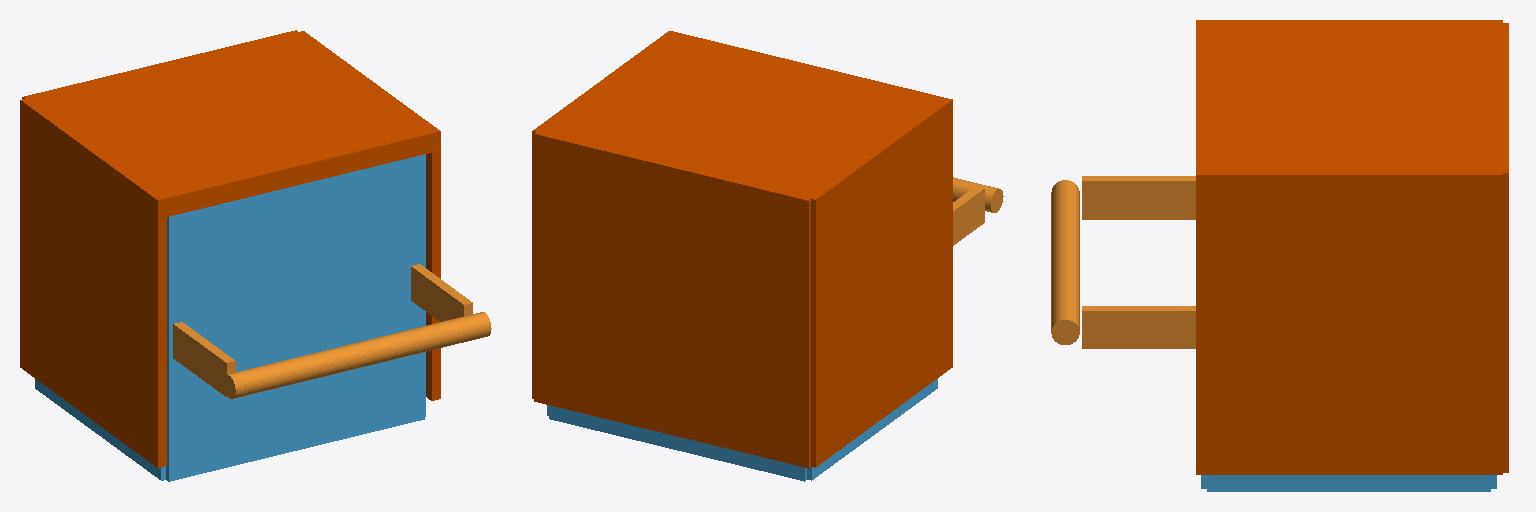
robot.urdf — bowl.urdf:
<?xml version="0.0" ?>
<robot name="bowl.urdf">

  <material name="yellow">
    <color rgba="1 1 0.4 1"/>
  </material>
  <material name="red">
    <color rgba="1 0 0 1"/>
  </material>
  <material name="blue">
    <color rgba=".17 .20 .38 1"/>
  </material>
  <material name="teal">
    <color rgba="0 .5 .5 1"/>
  </material>
  <material name="orange">
    <color rgba=".93 .6 .23 1"/>
  </material>

  <link name="world"/>

  <link name="base">
    <contact>
      <rolling_friction value="10.0"/>
      <lateral_friction value="10.0"/>
      <spinning_friction value="10.0"/>
    </contact>
    <inertial>
      <origin rpy="0 0 0" xyz="0.0 0.0 0.0"/>
       <mass value="0.1"/>
       <inertia ixx="1" ixy="0" ixz="0" iyy="1" iyz="0" izz="1"/>
    </inertial>
    <visual>
      <origin rpy="0 0 0" xyz="0 0 -0.2"/>
      <geometry>
        <box size="1.4 1.2 .1"/>
      </geometry>
    </visual>
    <visual>
      <!-- right -->
      <origin rpy="0 0 0" xyz="0 -.6 0"/>
      <geometry>
        <box size="1.4 .05 1.4"/>
      </geometry>
    </visual>
    <visual>
      <!-- left -->
      <origin rpy="0 0 0" xyz="0 .6 0"/>
      <geometry>
        <box size="1.4 .05 1.4"/>
      </geometry>
    </visual>
    <visual>
      <!-- front -->
      <origin rpy="0 0 0" xyz=".7 0 0"/>
      <geometry>
        <box size=".05 1.2 1.4"/>
      </geometry>
    </visual>
    <visual>
      <!-- back -->
      <origin rpy="0 0 0" xyz="-.7 0 0"/>
      <geometry>
        <box size=".05 1.2 1.4"/>
      </geometry>
    </visual>

    <collision>
      <!--Bottom --> 
      <origin rpy="0 0 0" xyz="0 0 -.2"/>
      <geometry>
        <box size="1.5 1.4 .1"/> 
        <!-- make collisiton area larger -->
      </geometry>
    </collision>
    <collision>
      <!-- right -->
      <origin rpy="0 0 0" xyz="0 -.6 0"/>
      <geometry>
        <box size="1.4 .05 1.4"/>
      </geometry>
    </collision>
    <collision>
      <!-- left -->
      <origin rpy="0 0 0" xyz="0 .6 0"/>
      <geometry>
        <box size="1.4 .05 1.4"/>
      </geometry>
    </collision>
    <collision>
      <!-- front -->
      <origin rpy="0 0 0" xyz=".7 0 0"/>
      <geometry>
        <box size=".05 1.2 1.4"/>
      </geometry>
    </collision>
    <collision>
      <!-- back -->
      <origin rpy="0 0 0" xyz="-.7 0 0"/>
      <geometry>
        <box size=".05 1.2 1.4"/>
      </geometry>
    </collision>
  </link>

  <link name="handle_r">
    <contact>
      <rolling_friction value="1000.0"/>
      <lateral_friction value="1000.0"/>
      <!-- lateral_friction was key to not making the gripper slide on the handle--> 
      <spinning_friction value="1000.0"/>
      <contact_cfm value="0.0"/>
      <contact_erp value="1.0"/>
    </contact>
    <inertial>
      <origin rpy="0 1.57 0" xyz="0 0 0"/>
      <mass value=".1"/>
      <inertia ixx="1" ixy="0" ixz="0" iyy="1" iyz="0" izz="1"/>
    </inertial>
    <visual>
      <origin rpy="0 1.57 0" xyz="0 0 0"/>
      <geometry>
        <cylinder radius="0.06" length="1.4"/>
      </geometry>
      <material name="orange"/>
    </visual>
    <collision>
      <origin rpy="0 1.57 0" xyz="0 0 0"/>
      <geometry>
        <cylinder radius="0.06" length="1.4"/>
      </geometry>
    </collision>
  </link>

  <link name="handle_plate_far">
    <contact>
      <rolling_friction value="1000.0"/>
      <lateral_friction value="1000.0"/>
      <spinning_friction value="1000.0"/>
      <contact_cfm value="0.0"/>
      <contact_erp value="1.0"/>
    </contact>
    <inertial>
      <origin rpy="0 1.57 0" xyz="0 0 0"/>
      <mass value=".1"/>
      <inertia ixx="1" ixy="0" ixz="0" iyy="1" iyz="0" izz="1"/>
    </inertial>
    <visual>
      <origin rpy="0 0 0" xyz="0 0 0"/>
      <geometry>
        <box size=".05 .6 .18"/>
      </geometry>
      <material name="orange"/>
    </visual>
    <collision>
      <origin rpy="0 0 0" xyz="0 0 0"/>
      <geometry>
        <box size=".05 .6 .18"/>
      </geometry>
    </collision>
  </link>

  <link name="handle_plate_near">
    <contact>
      <rolling_friction value="1000.0"/>
      <lateral_friction value="1000.0"/>
      <spinning_friction value="1000.0"/>
      <contact_cfm value="0.0"/>
      <contact_erp value="1.0"/>
    </contact>
    <inertial>
      <origin rpy="0 1.57 0" xyz="0 0 0"/>
      <mass value=".1"/>
      <inertia ixx="1" ixy="0" ixz="0" iyy="1" iyz="0" izz="1"/>
    </inertial>
    <visual>
      <origin rpy="0 0 0" xyz="0 0 0"/>
      <geometry>
        <box size=".05 .6 .18"/>
      </geometry>
      <material name="orange"/>
    </visual>
    <collision>
      <origin rpy="0 0 0" xyz="0 0 0"/>
      <geometry>
        <box size=".05 .6 .18"/>
      </geometry>
    </collision>
  </link>

  <link name="frame">
    <contact>
      <lateral_friction value="0.5"/>
      <rolling_friction value="0.0"/>
      <contact_cfm value="0.0"/>
      <contact_erp value="1.0"/>
    </contact>
    <inertial>
      <origin rpy="0 0 0" xyz="0.0 0.0 0.0"/>
       <mass value=".1"/>
       <inertia ixx="1" ixy="0" ixz="0" iyy="1" iyz="0" izz="1"/>
    </inertial>
    <visual>
      <!--Top-->
      <origin rpy="0 0 0" xyz="0 0 .65"/>
      <geometry>
        <box size="1.5 1.3 .1"/>
      </geometry>
    </visual>
    <visual>
      <!--Right-->
      <origin rpy="0 0 0" xyz="0 .65 0"/>
      <geometry>
        <box size="1.5 .05 1.4"/>
      </geometry>
    </visual>
    <visual>
      <!--Front-->
      <origin rpy="0 0 0" xyz=".75 0 0"/>
      <geometry>
        <box size=".05 1.3 1.4"/>
      </geometry>
    </visual>
    <visual>
      <!--Back-->
      <origin rpy="0 0 0" xyz="-.75 0 0"/>
      <geometry>
        <box size=".05 1.3 1.4"/>
      </geometry>
    </visual>

    <collision>
      <!--Top-->
      <origin rpy="0 0 0" xyz="0 0 .7"/>
      <geometry>
        <box size="1.5 1.3 .1"/>
      </geometry>
    </collision>
    <collision>
      <!--Right-->
      <origin rpy="0 0 0" xyz="0 .65 0"/>
      <geometry>
        <box size="1.5 .05 .6"/>
      </geometry>
    </collision>
    <collision>
      <!--Front-->
      <origin rpy="0 0 0" xyz=".75 0 0"/>
      <geometry>
        <box size=".05 1.3 .6"/>
      </geometry>
    </collision>
    <collision>
      <!--Back-->
      <origin rpy="0 0 0" xyz="-.75 0 0"/>
      <geometry>
        <box size=".05 1.3 .6"/>
      </geometry>
    </collision>
  </link>

  <joint name="frame_joint" type="fixed">
    <parent link="world"/>
    <child link="frame"/>
  </joint>

  <joint name="base_frame_joint" type="prismatic">
    <origin rpy="0 0 0" xyz="0 0 -.1"/>
    <parent link="frame"/>
    <child link="base"/>
    <axis rpy="0 0 0" xyz="0 1 0"/>
    <limit effort="100" lower="-1.25" upper="0" velocity="100"/>
    <dynamics damping="0.0" friction=".01"/>
  </joint>

  <joint name="handle_plate_far_joint" type="fixed">
    <origin rpy="0 0 0" xyz="-0.65 -0.83 0.03"/>
    <parent link="base"/>
    <child link="handle_plate_far"/>
  </joint>

  <joint name="handle_plate_near_joint" type="fixed">
    <origin rpy="0 0 0" xyz="0.65 -0.83 0.03"/>
    <parent link="base"/>
    <child link="handle_plate_near"/>
  </joint>

  <joint name="handle_r_joint" type="fixed">
    <origin rpy="0 0 0" xyz="0 -1.2 0.03"/>
    <parent link="base"/>
    <child link="handle_r"/>
  </joint>

</robot>

--- Render facts (derived) ---
Views: 3 orthographic renders of the robot side by side, from view 1: azimuth 30°, elevation 25°; view 2: azimuth 150°, elevation 25°; view 3: azimuth 270°, elevation 25°.
Robot: bowl.urdf — 6 links, 5 joints (1 prismatic, 4 fixed); root link world; default pose: every joint at zero.
Links seen in each view (by area): view 1: frame, base, handle_r, handle_plate_far, handle_plate_near; view 2: frame, base, handle_plate_far, handle_r; view 3: frame, handle_plate_far, base, handle_plate_near, handle_r.
Link boxes in pixels (x1,y1,x2,y2): frame: (20, 30, 440, 467); base: (35, 154, 425, 481); handle_r: (223, 312, 491, 398); handle_plate_far: (173, 322, 235, 396); handle_plate_near: (411, 264, 472, 321); frame: (532, 31, 952, 468); base: (547, 379, 937, 481); handle_plate_far: (953, 186, 984, 245); handle_r: (953, 177, 1003, 212); frame: (1196, 20, 1508, 474); handle_plate_far: (1082, 176, 1195, 219); base: (1201, 475, 1496, 491); handle_plate_near: (1082, 306, 1195, 348); handle_r: (1051, 180, 1079, 344).
Size in the robot's own frame: 1.55 by 1.94 by 1.5 metres.
Geometry: primitives only (box / cylinder / sphere), no mesh files.